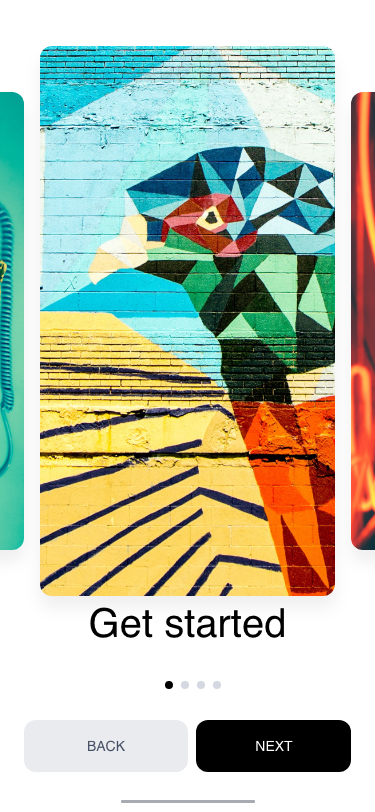Image: (40, 46, 336, 597), (351, 92, 375, 551), (1, 93, 25, 551)
PageIndicator: (165, 680, 222, 690)
Text: (90, 607, 285, 639)
TextButton: (25, 720, 189, 772), (196, 720, 351, 772)
